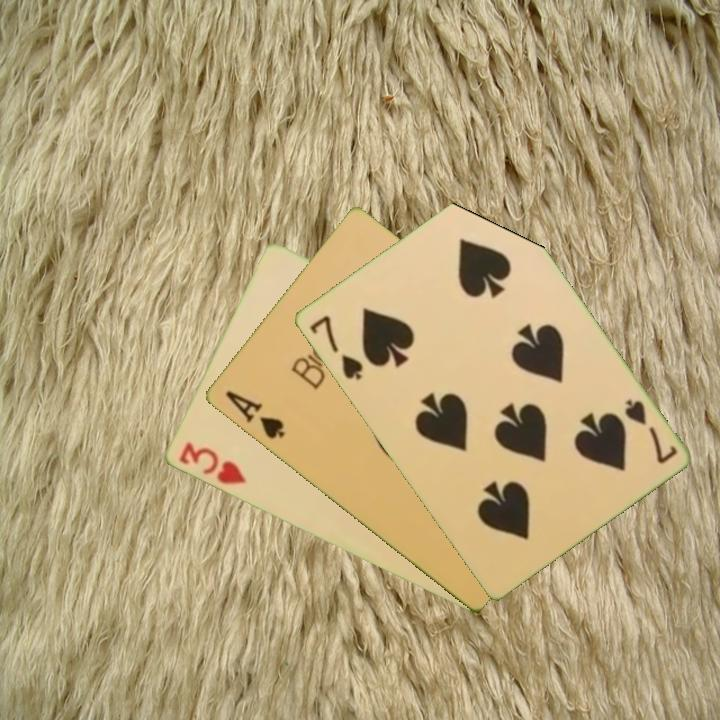3h: (175, 438, 249, 488)
7s: (305, 311, 366, 383), (620, 395, 680, 467)
As: (221, 386, 288, 442)
